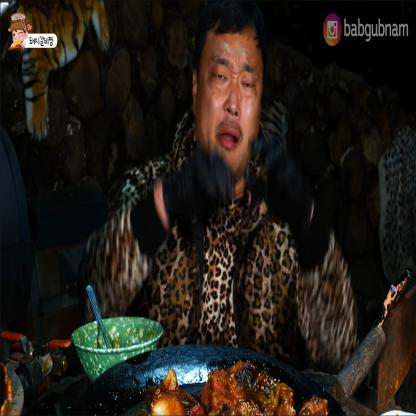streamer: (78, 0, 358, 370)
